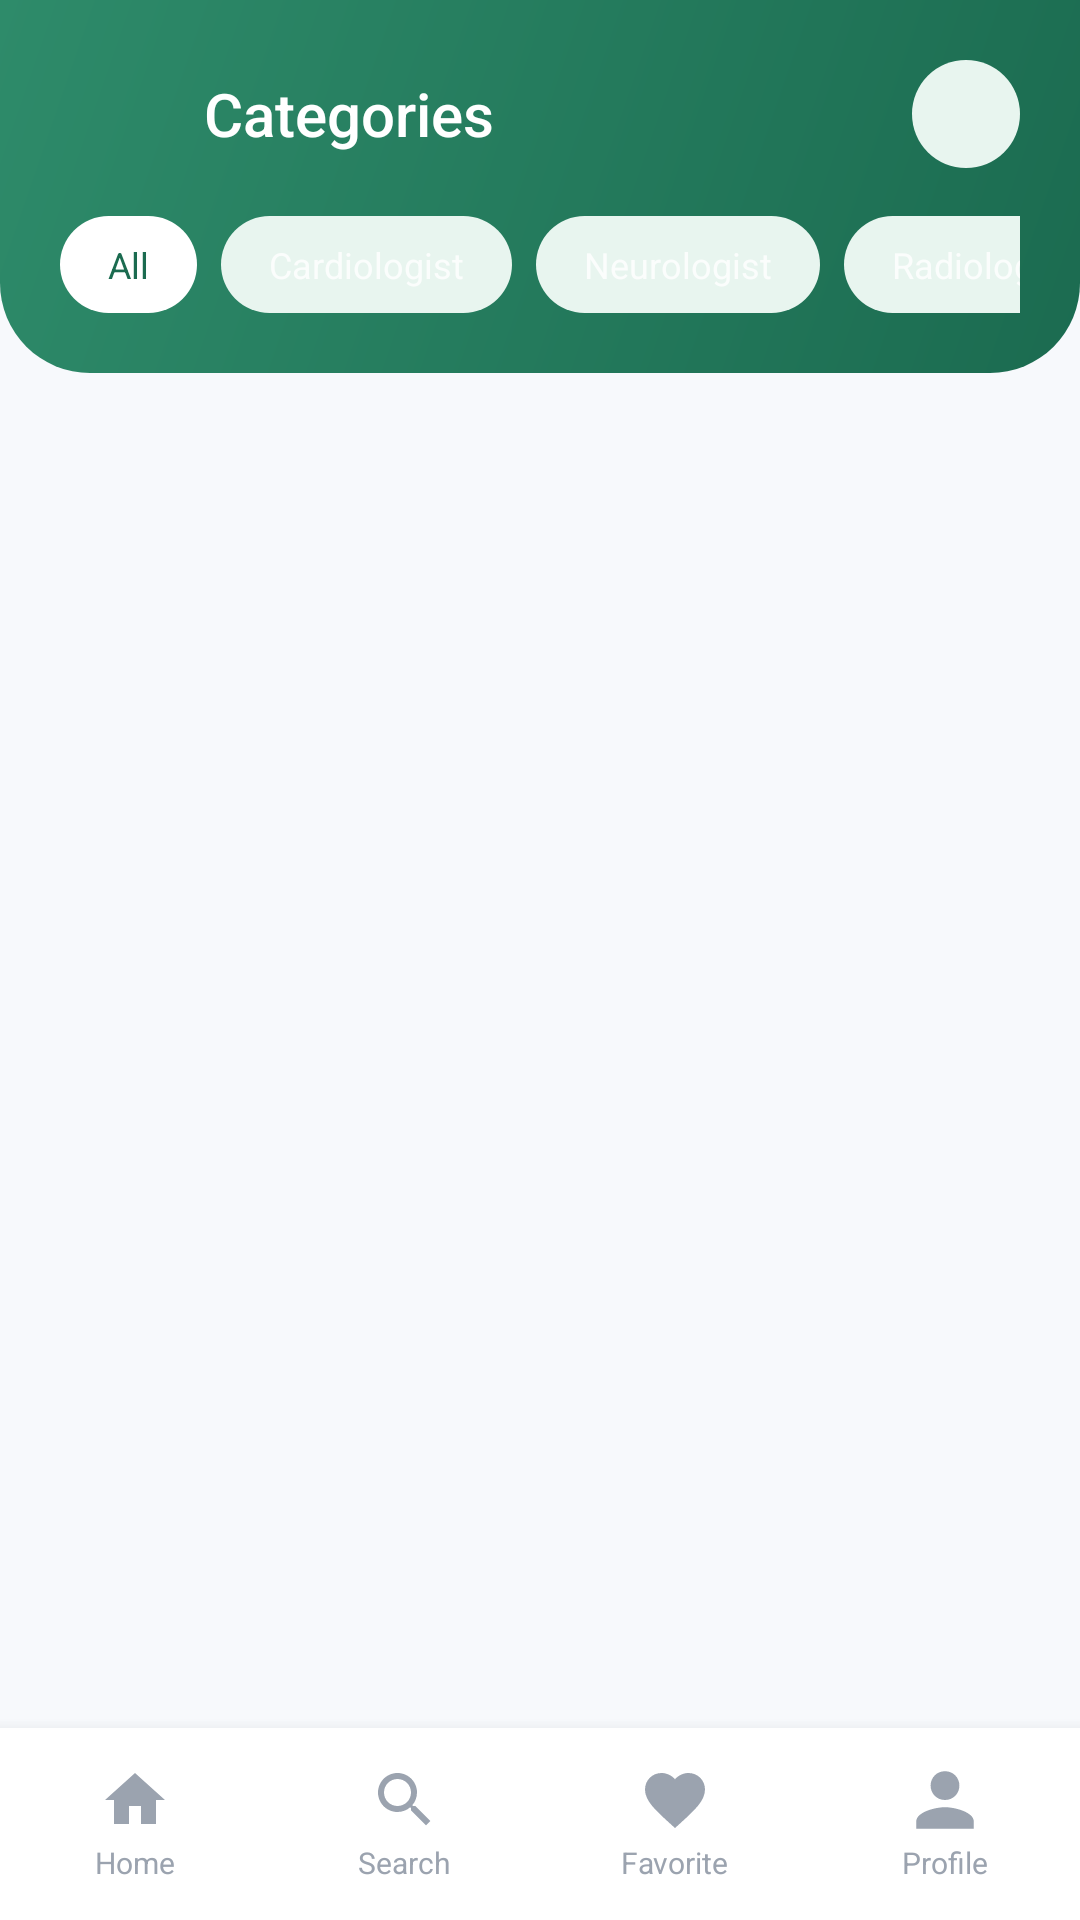

Locate icon controls on the screen. Image size 1080px x 1920px, boxes as [x1, y1, x2, y2].
person: [916, 1771, 974, 1829]
